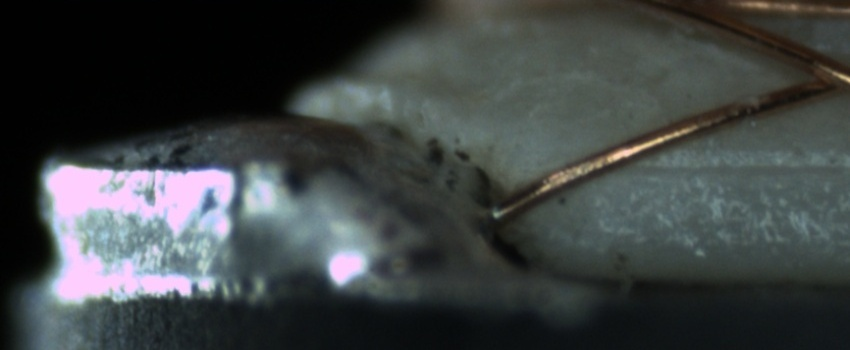CL: (791, 48, 850, 101)
DL: (619, 138, 849, 194)
